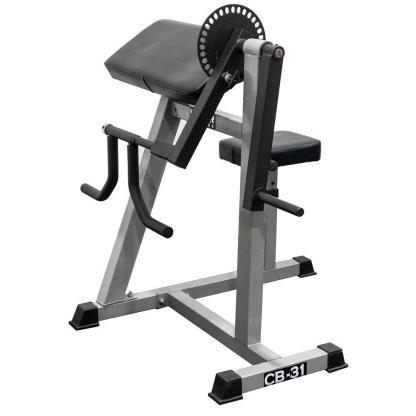arm curl machine: (72, 4, 350, 404)
